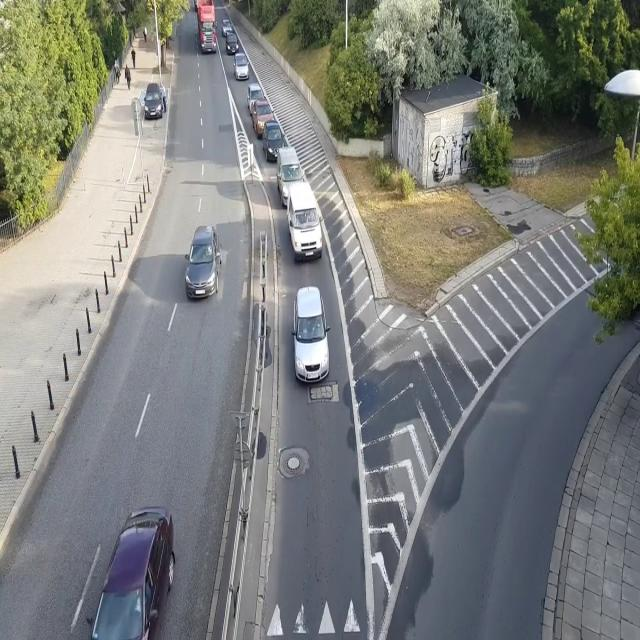car: (84, 505, 176, 640), (290, 286, 330, 384), (184, 225, 222, 299), (251, 97, 274, 139), (262, 121, 285, 162), (144, 83, 164, 119), (247, 84, 263, 114), (233, 53, 250, 81), (225, 31, 239, 55), (221, 18, 232, 37)
truck: (196, 0, 218, 54)
van: (286, 183, 324, 263), (276, 148, 305, 208)
